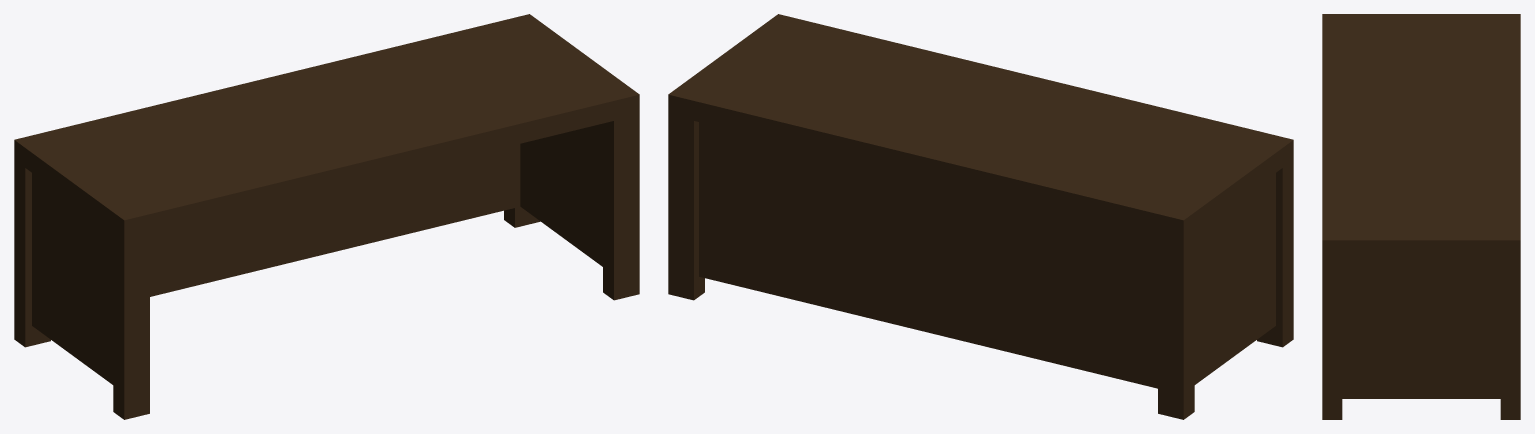
File: SM Desk.fbx
3 renders of one model, left to right at view 1: azimuth 30°, elevation 25°; view 2: azimuth 150°, elevation 25°; view 3: azimuth 270°, elevation 25°, orthographic. The views are drawn at different scales.
Visible parts, largest first — view 1: Desk_mesh; view 2: Desk_mesh; view 3: Desk_mesh.
Part boxes in pixels (x1,y1,x2,y2): Desk_mesh: (14, 14, 639, 419); Desk_mesh: (668, 14, 1293, 419); Desk_mesh: (1322, 14, 1520, 419).
Size of the model in its own units: 200 by 74 by 74.
